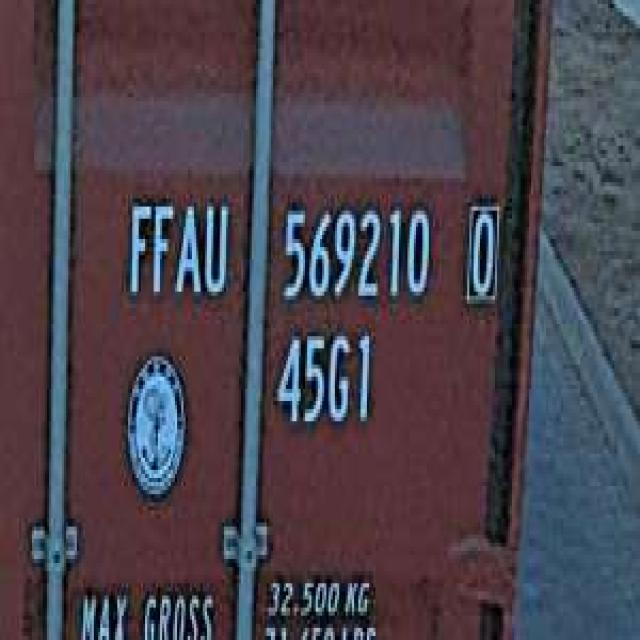dv: (461, 190, 501, 308)
owner: (122, 186, 230, 308)
serial: (276, 190, 438, 312)
size: (271, 320, 375, 437)
